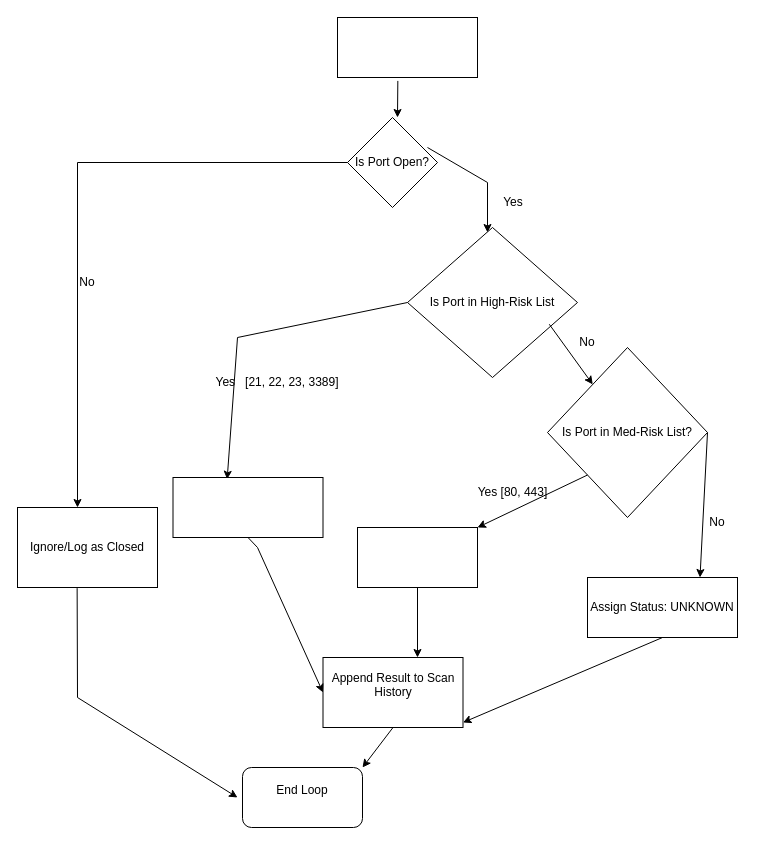
This 765x845 diagram has some shape labels left out. The centre of each missing label's shape, as x and y in pixels:
"Assign Status: HIGH RISK" goes at point 247,507.
"Assign Status: NORMAL/SECURE" goes at point 417,557.
"Start Scan Result Loop" goes at point 407,47.
